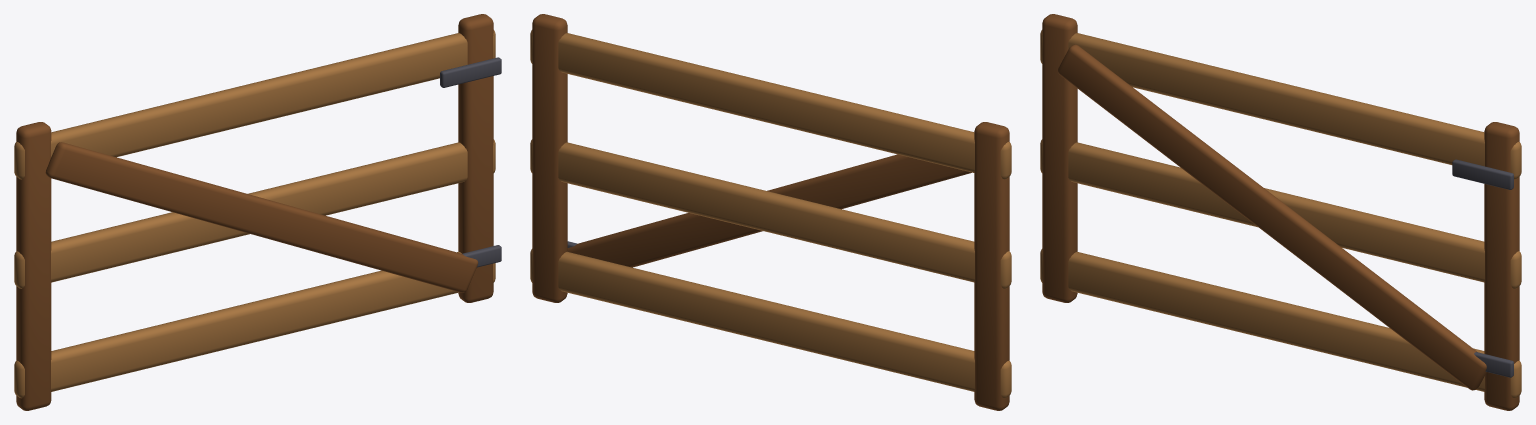
Rendered from fence_gate.glb.
The picture shows the model from 3 angles, left to right: view 1: azimuth 30°, elevation 25°; view 2: azimuth 150°, elevation 25°; view 3: azimuth 330°, elevation 25°; orthographic projection.
Parts seen in each view (by area): view 1: fence_gate; view 2: fence_gate; view 3: fence_gate.
Boxes of the visible parts, left/top/right/bottom form: fence_gate: left=14, top=14, right=501, bottom=410; fence_gate: left=530, top=14, right=1011, bottom=410; fence_gate: left=1040, top=14, right=1521, bottom=410.
Size of the model in its own units: 1.6 by 0.9 by 0.09.
